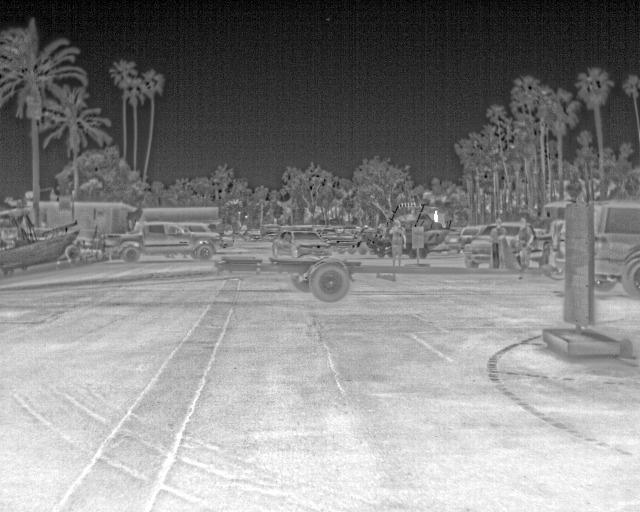bicycle: (104, 218, 221, 263), (588, 198, 638, 299), (272, 226, 332, 260), (464, 226, 497, 268), (530, 234, 553, 267), (182, 222, 218, 238), (502, 222, 520, 240), (221, 235, 235, 252)
empty: (388, 220, 407, 265), (513, 219, 533, 250), (488, 222, 506, 250)
